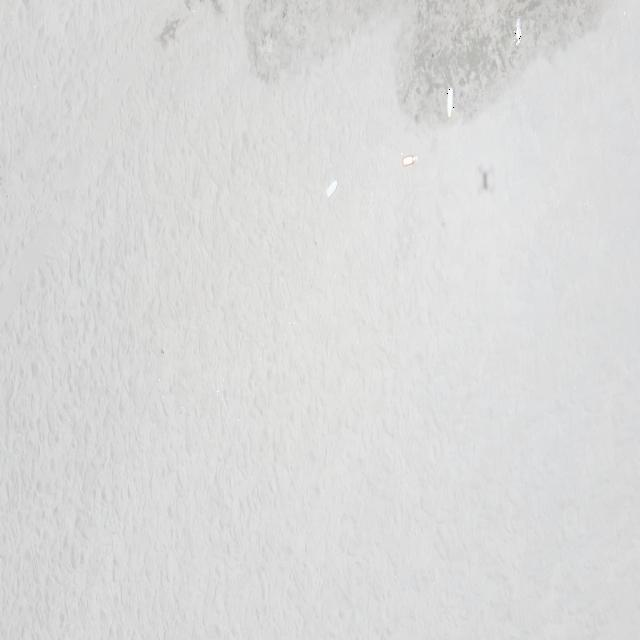plastic-bottle: (446, 88, 454, 120), (324, 179, 337, 197), (514, 17, 522, 45), (402, 155, 416, 169)
